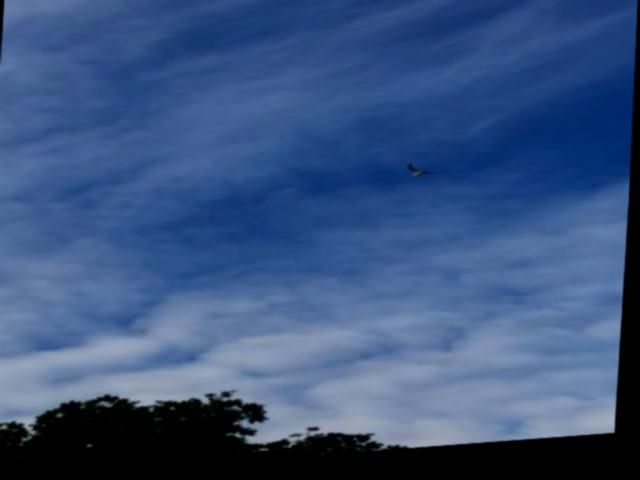bird: (393, 164, 453, 190)
